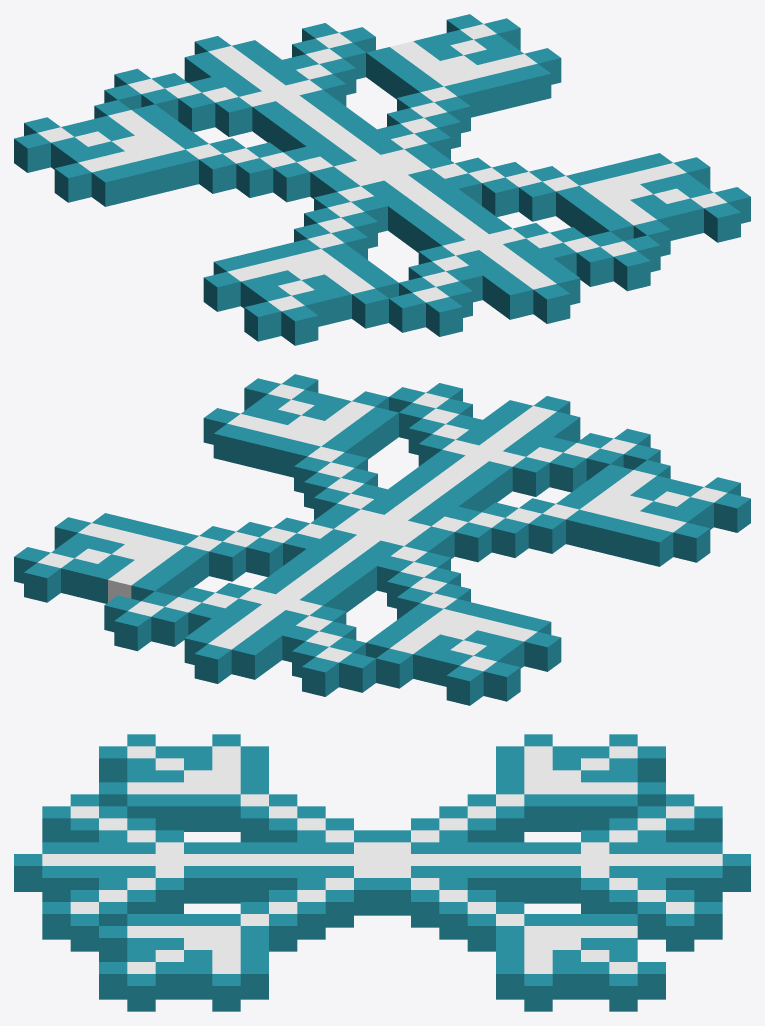
File: ICE ICON.gltf
The picture shows the model from 3 angles, top to bottom: view 1: azimuth 30°, elevation 25°; view 2: azimuth 150°, elevation 25°; view 3: azimuth 270°, elevation 25°; orthographic projection. The views are drawn at different scales.
Visible parts, largest first — view 1: Layer.1; view 2: Layer.1; view 3: Layer.1.
Part boxes in pixels (left/top/right/bottom): Layer.1: left=14, top=14, right=750, bottom=345; Layer.1: left=14, top=374, right=750, bottom=705; Layer.1: left=14, top=734, right=750, bottom=1011.
Bounding box in the file's own units: 21 × 1 × 26.
1 material, 1 textured.
